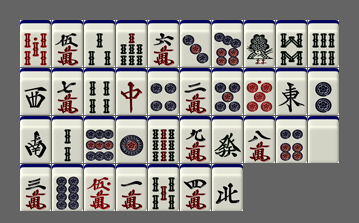0m: (84, 164, 115, 211)
0p: (244, 68, 275, 115)
0s: (20, 20, 51, 67)
1m: (116, 164, 147, 211)
1p: (116, 116, 147, 163)
1s: (244, 20, 275, 67)
1z: (276, 68, 307, 115)
2m: (180, 68, 211, 115)
2p: (308, 68, 339, 115)
2s: (52, 116, 83, 163)
2z: (20, 116, 51, 163)
3m: (20, 164, 51, 211)
3p: (180, 20, 211, 67)
3s: (84, 20, 115, 67)
3z: (20, 68, 51, 115)
4m: (180, 164, 211, 211)
4p: (148, 68, 179, 115)
4s: (84, 68, 115, 115)
4z: (212, 164, 243, 211)
5m: (52, 20, 83, 67)
5p: (212, 68, 243, 115)
5s: (148, 164, 179, 211)
5z: (308, 116, 339, 163)
6m: (148, 20, 179, 67)
6p: (276, 116, 307, 163)
6s: (308, 20, 339, 67)
6z: (212, 116, 243, 163)
7m: (52, 68, 83, 115)
7p: (212, 20, 243, 67)
7s: (116, 20, 147, 67)
7z: (116, 68, 147, 115)
8m: (244, 116, 275, 163)
8p: (52, 164, 83, 211)
8s: (276, 20, 307, 67)
9m: (180, 116, 211, 163)
9p: (84, 116, 115, 163)
9s: (148, 116, 179, 163)
